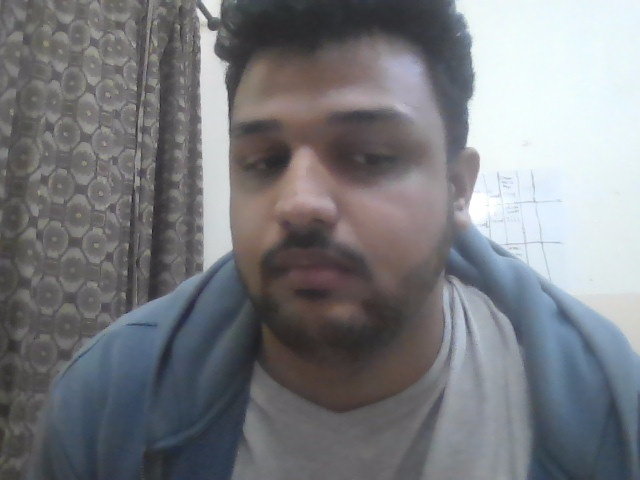awake: (143, 57, 555, 350)
